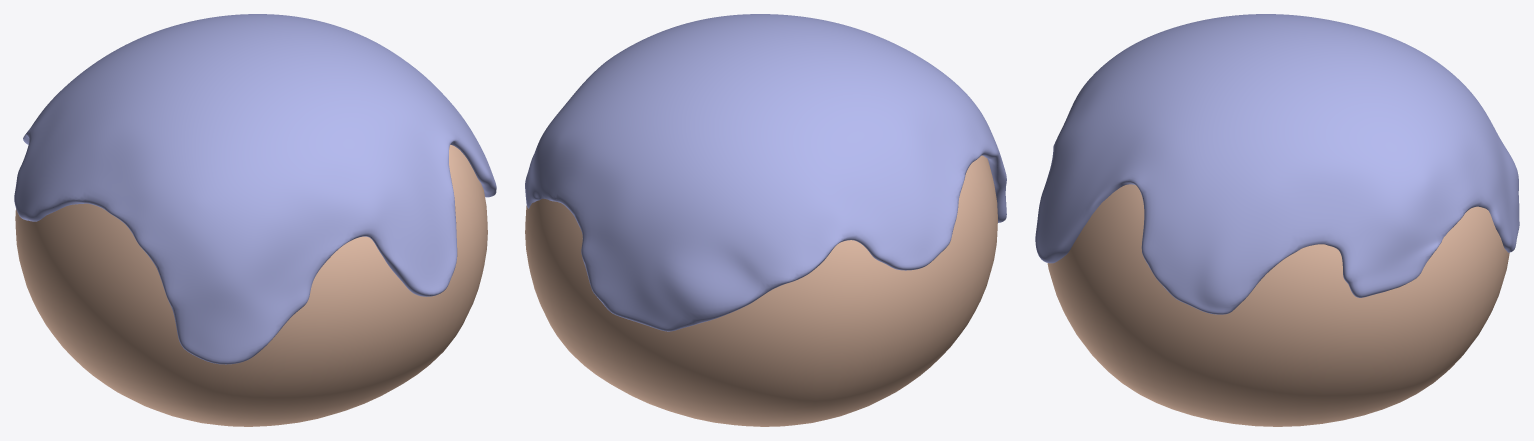
Rendered from blue clay.fbx.
The picture shows the model from 3 angles, left to right: view 1: azimuth 30°, elevation 25°; view 2: azimuth 150°, elevation 25°; view 3: azimuth 270°, elevation 25°; orthographic projection.
Visible parts, largest first — view 1: blue; view 2: blue; view 3: blue.
Part boxes in pixels (x1=…): blue: x1=14, y1=14, x2=496, y2=426; blue: x1=525, y1=14, x2=1006, y2=426; blue: x1=1035, y1=14, x2=1519, y2=426.
Bounding box in the file's own units: 164 × 134 × 166.
